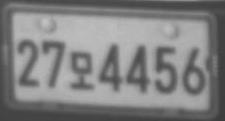2: (16, 39, 40, 87)
4: (97, 43, 123, 92), (126, 44, 151, 93)
5: (153, 45, 178, 93)
6: (181, 47, 206, 95)
7: (41, 40, 65, 88)
모: (70, 51, 93, 90)
